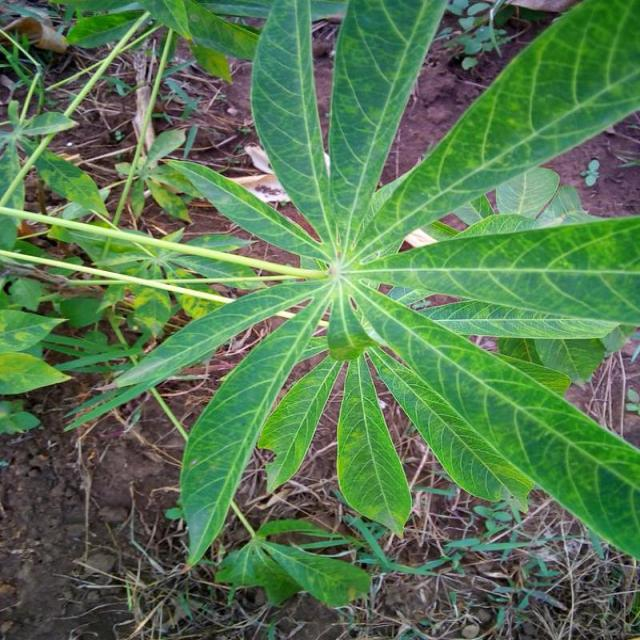cassava leaf: (42, 0, 639, 587)
